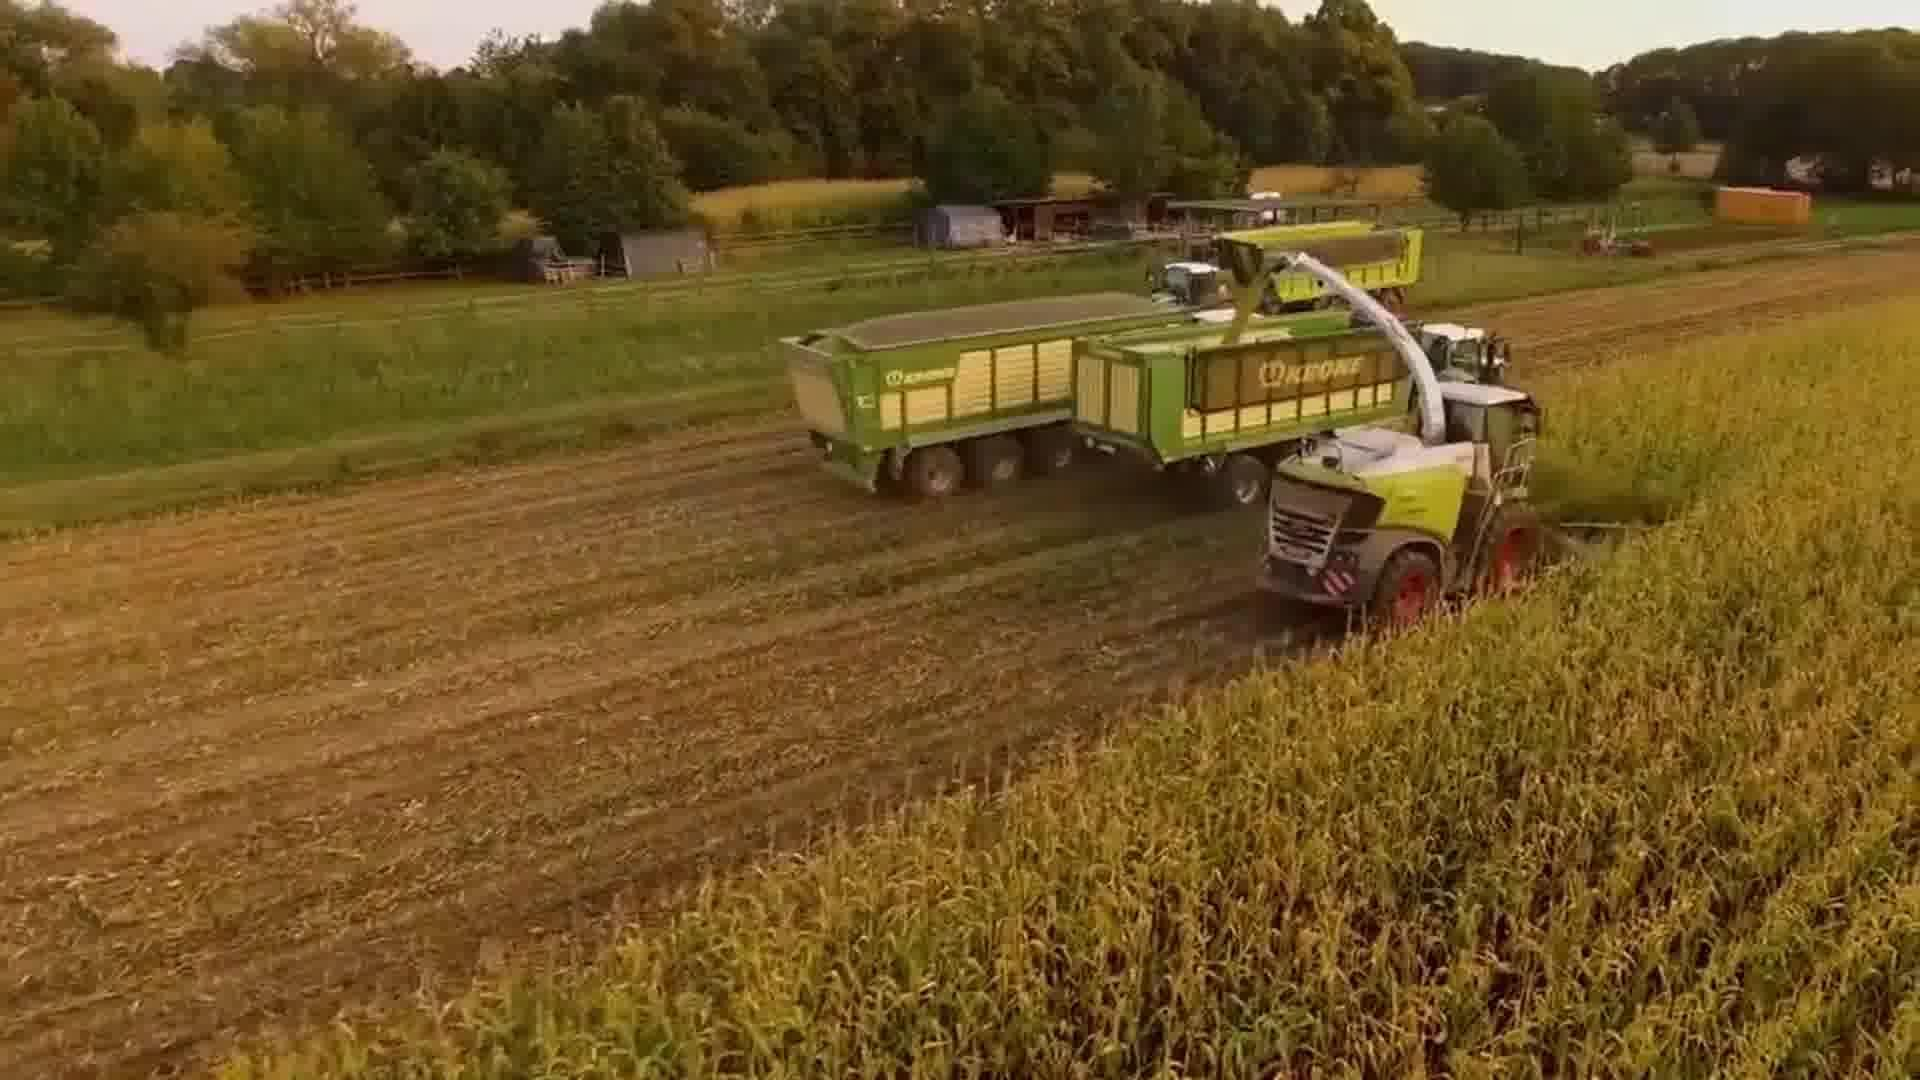combine harvester: (1259, 250, 1561, 619)
tractor: (1416, 304, 1507, 381), (1151, 254, 1223, 304)
trailer: (794, 264, 1191, 513), (1066, 306, 1441, 506), (1214, 220, 1430, 309)
